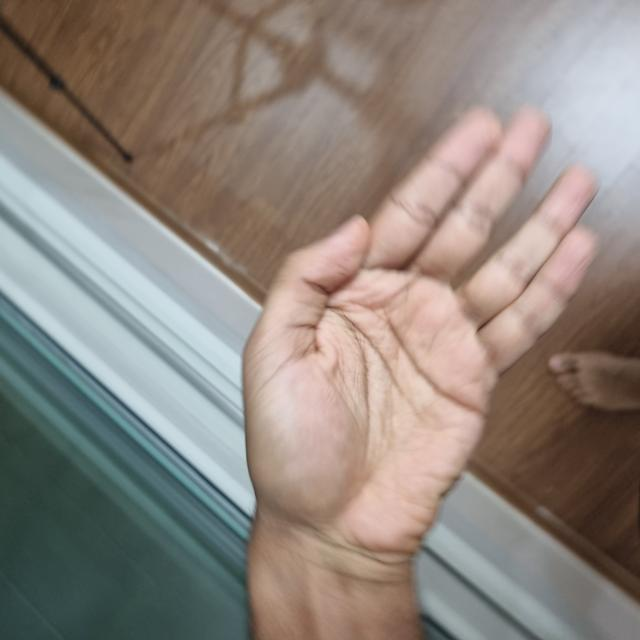Paper: (98, 244, 421, 487)
